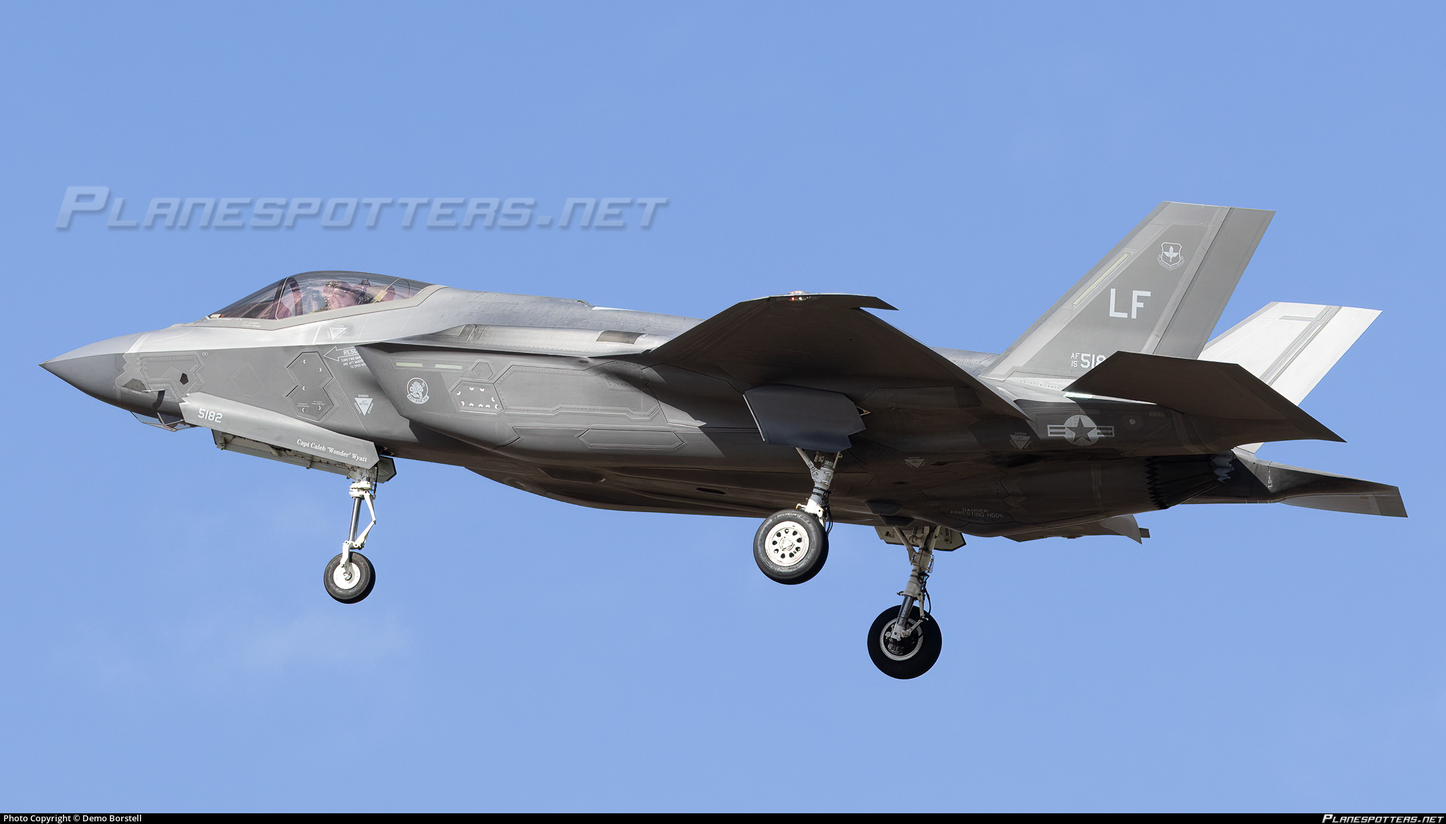F35: (31, 194, 1413, 683)
